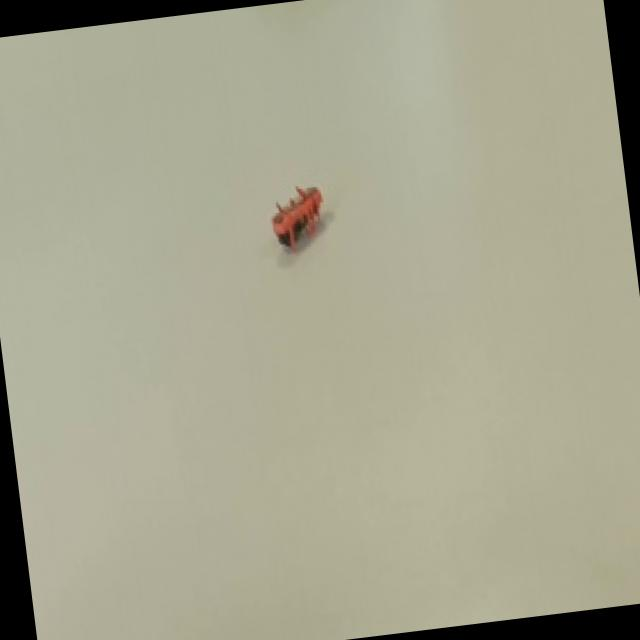7_NanoBug_Naranja: (230, 158, 342, 277)
